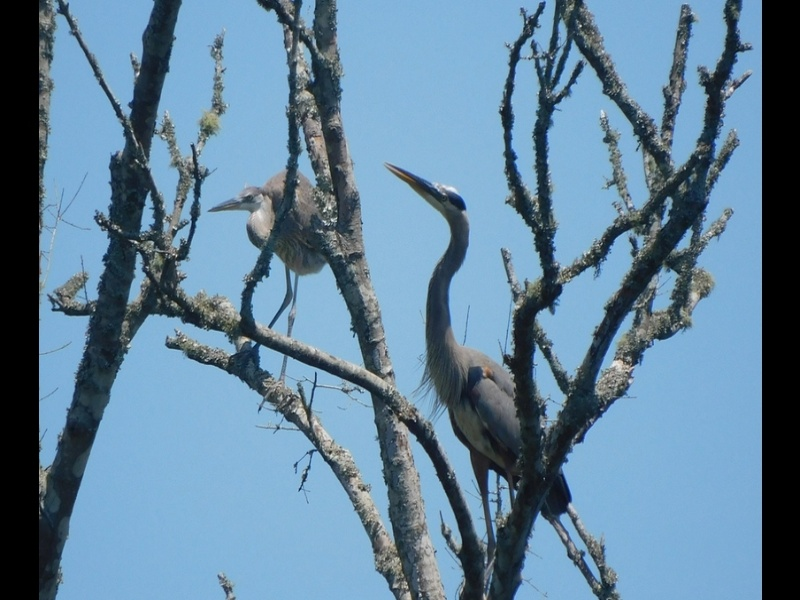heron: (383, 158, 594, 580), (209, 163, 344, 396)
